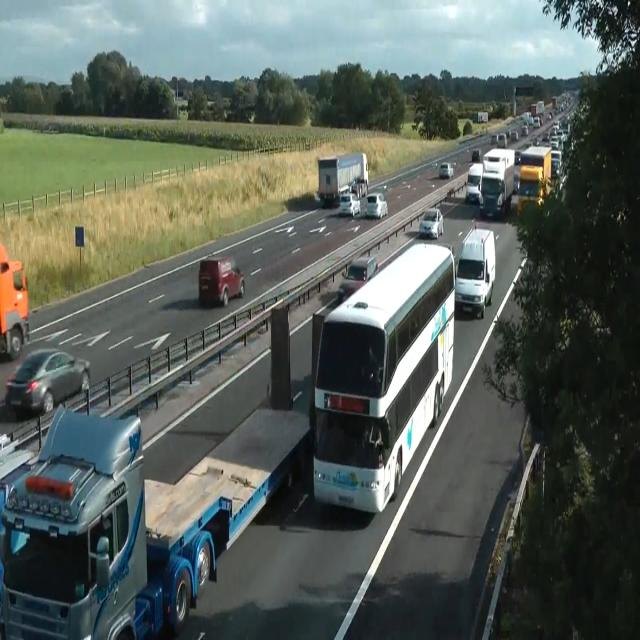bus: (5, 348, 90, 417), (0, 432, 36, 489), (338, 255, 378, 304), (342, 255, 378, 281), (419, 207, 443, 239), (364, 192, 388, 219), (338, 193, 360, 217), (438, 162, 454, 178), (496, 132, 506, 148), (513, 169, 519, 194), (472, 148, 480, 162), (514, 150, 521, 164), (509, 130, 518, 140), (521, 124, 529, 135), (491, 133, 497, 144)
car: (312, 240, 456, 514)
jeep: (0, 403, 148, 638), (454, 225, 496, 318), (198, 255, 244, 307), (465, 162, 483, 202)
minibus: (0, 305, 324, 639), (0, 242, 30, 361), (317, 151, 368, 208), (515, 145, 552, 219), (478, 148, 514, 218), (473, 111, 488, 124)
